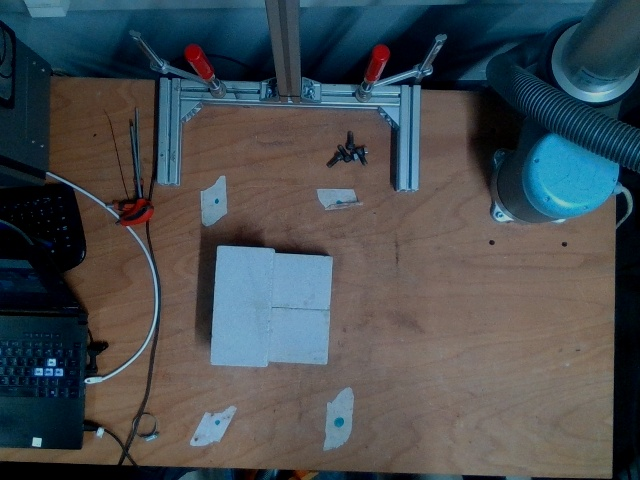brick: (209, 245, 274, 367)
